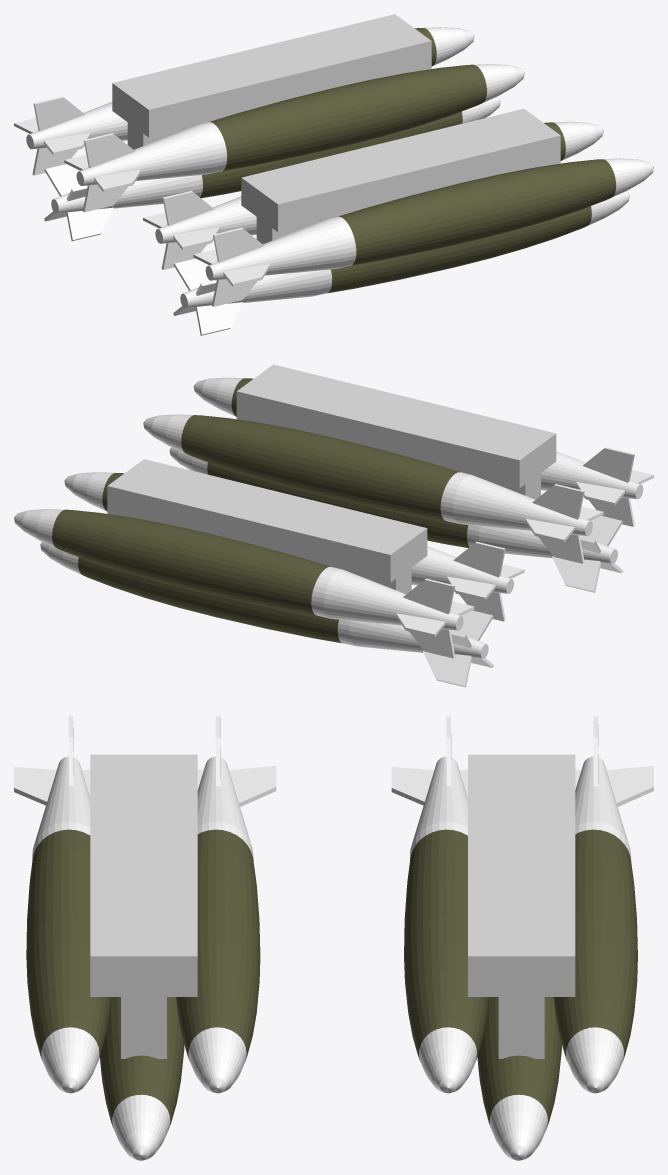
The model's file is a10cgbu3856.glb.
3 views of the same model, one above another, from view 1: azimuth 30°, elevation 25°; view 2: azimuth 150°, elevation 25°; view 3: azimuth 270°, elevation 25° (orthographic). The views are drawn at different scales.
Parts seen in each view (by area): view 1: 円柱.007, 円柱.005, 立方体.001, 立方体.002, 円柱.003, 円柱.008, 円柱.006, 円柱.004; view 2: 円柱.004, 円柱.006, 立方体.001, 立方体.002, 円柱.008, 円柱.003, 円柱.005, 円柱.007; view 3: 立方体.001, 立方体.002, 円柱.007, 円柱.005, 円柱.006, 円柱.004, 円柱.008, 円柱.003.
Part boxes in pixels (box(x1,y1,x2,y2)): 円柱.007: box(193, 158, 653, 306); 円柱.005: box(64, 64, 524, 212); 立方体.001: box(112, 14, 431, 149); 立方体.002: box(241, 108, 560, 243); 円柱.003: box(173, 191, 629, 335); 円柱.008: box(44, 97, 500, 241); 円柱.006: box(143, 121, 603, 269); 円柱.004: box(14, 27, 474, 175); 円柱.004: box(14, 509, 474, 658); 円柱.006: box(143, 414, 603, 563); 立方体.001: box(107, 459, 427, 594); 立方体.002: box(236, 364, 556, 499); 円柱.008: box(40, 542, 493, 687); 円柱.003: box(169, 447, 623, 592); 円柱.005: box(64, 472, 524, 621); 円柱.007: box(193, 377, 653, 526); 立方体.001: box(468, 754, 575, 1058); 立方体.002: box(90, 754, 197, 1058); 円柱.007: box(14, 716, 110, 1093); 円柱.005: box(391, 716, 488, 1093); 円柱.006: box(176, 716, 276, 1093); 円柱.004: box(553, 716, 653, 1093); 円柱.008: box(477, 997, 561, 1160); 円柱.003: box(100, 997, 184, 1160).
Size of the model in its own units: 2.42 by 0.6212 by 2.06.
Materials: 4 (1 with a texture image).
